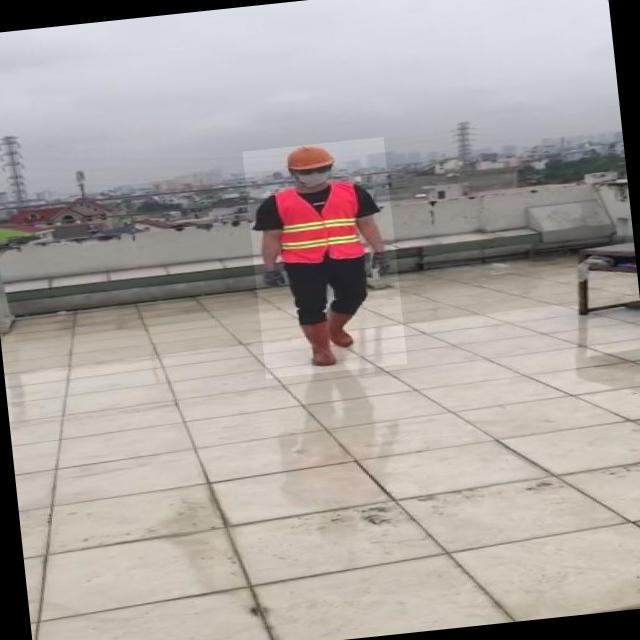Gloves: (261, 265, 289, 291), (369, 252, 391, 277)
Helmet: (280, 142, 337, 175)
Human: (242, 136, 407, 378)
Safety Boot: (299, 318, 340, 368), (323, 309, 357, 350)
Safety Vest: (277, 182, 367, 266)
